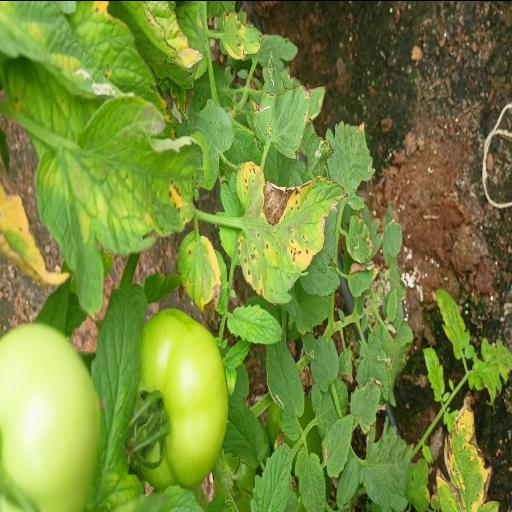Early Blight: (235, 158, 348, 308), (174, 230, 224, 330)
